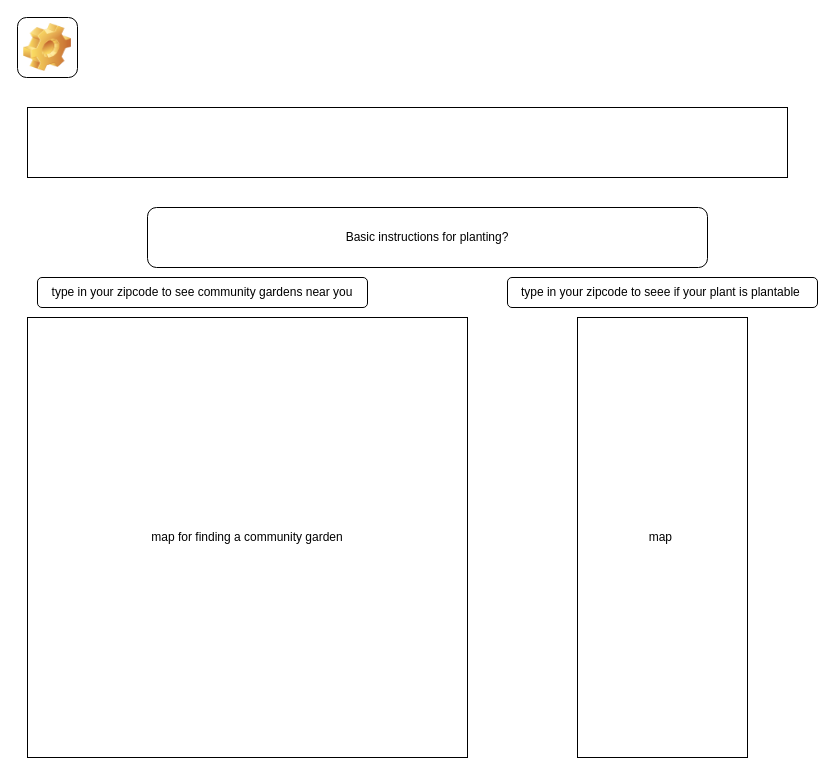
Image size: 835x775. Some labels were removed from this diagram. Here are the shapes that lost their labels. From the top down, the centre of each, then its label:
At pixel 47 47: "Icon".
At pixel 407 142: "Welcome Modal".
